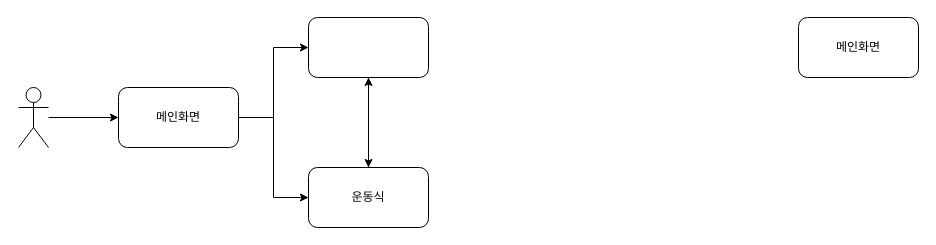
Image size: 936x245. Some labels were removed from this diagram. Here are the shapes that lost their labels. From the top down, the centre of each, then its label:
pixel 368 47: 일반식
pixel 33 117: 사용자
